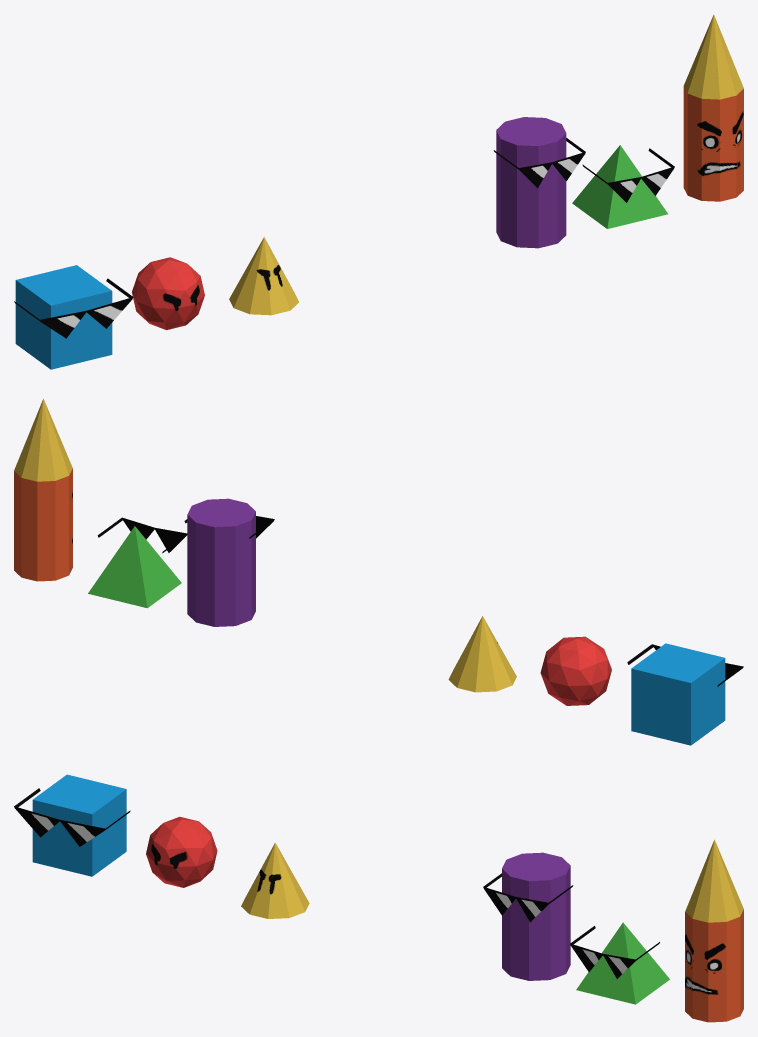
File: enemies.glb
The picture shows the model from 3 angles, top to bottom: view 1: azimuth 30°, elevation 25°; view 2: azimuth 150°, elevation 25°; view 3: azimuth 330°, elevation 25°; orthographic projection. The views are drawn at different scales.
Visible parts, largest first — view 1: Cylinder, Missile, Cube, Pyramid, Ball, Cone; view 2: Cylinder, Missile, Cube, Pyramid, Ball, Cone; view 3: Cylinder, Missile, Cube, Pyramid, Ball, Cone.
Boxes of the visible parts, left/top/right/bottom form: Cylinder: left=493, top=117, right=585, bottom=248; Missile: left=683, top=14, right=743, bottom=201; Cube: left=14, top=265, right=133, bottom=369; Pyramid: left=572, top=145, right=674, bottom=228; Ball: left=132, top=257, right=204, bottom=330; Cone: left=229, top=237, right=298, bottom=315; Cylinder: left=184, top=498, right=274, bottom=626; Missile: left=14, top=398, right=72, bottom=581; Cube: left=627, top=643, right=743, bottom=745; Pyramid: left=88, top=517, right=187, bottom=608; Ball: left=540, top=636, right=611, bottom=705; Cone: left=448, top=616, right=516, bottom=692; Cylinder: left=483, top=852, right=573, bottom=980; Missile: left=685, top=839, right=743, bottom=1022; Cube: left=14, top=774, right=130, bottom=876; Pyramid: left=570, top=922, right=669, bottom=1004; Ball: left=146, top=816, right=217, bottom=887; Cone: left=241, top=842, right=309, bottom=918.
Size of the model in its own units: 23.61 by 5.62 by 2.21.
7 materials, 7 textured.
